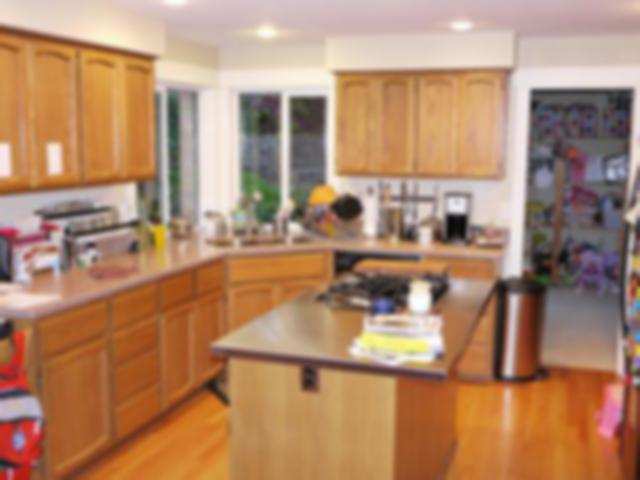Bote de Basura: (497, 273, 554, 384)
Lavaplatos: (200, 189, 315, 257)
